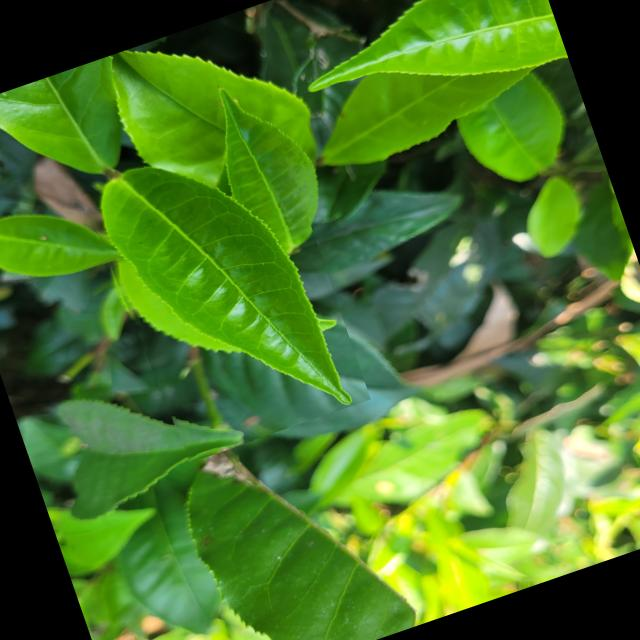Catagory A(1-2 days): (77, 117, 370, 466)
